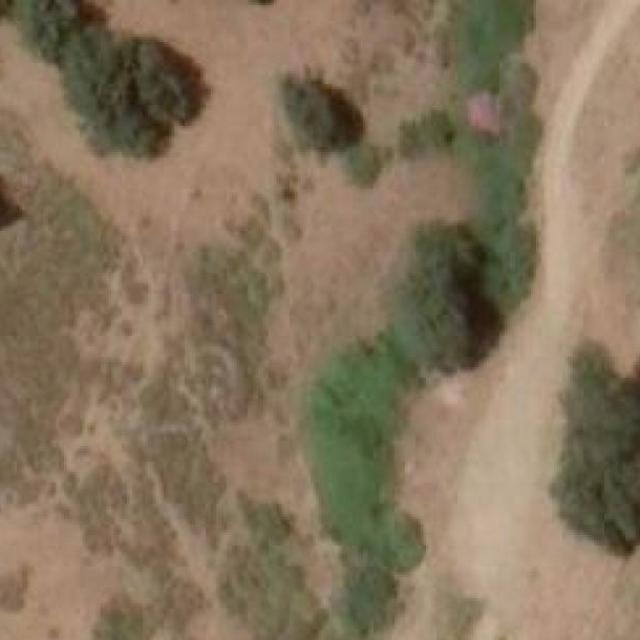Tree: (61, 30, 197, 160), (562, 339, 640, 541), (396, 223, 486, 381), (284, 79, 371, 152), (6, 0, 99, 47), (339, 570, 400, 632), (92, 595, 150, 640), (0, 178, 20, 231)
